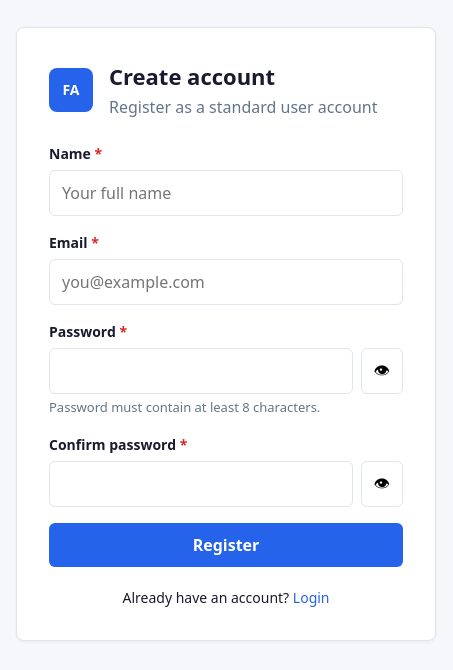
Registration › password confirmation validation
Type "Test User" into the field labelled "Name *" at (226, 193), box [49,170,403,216]
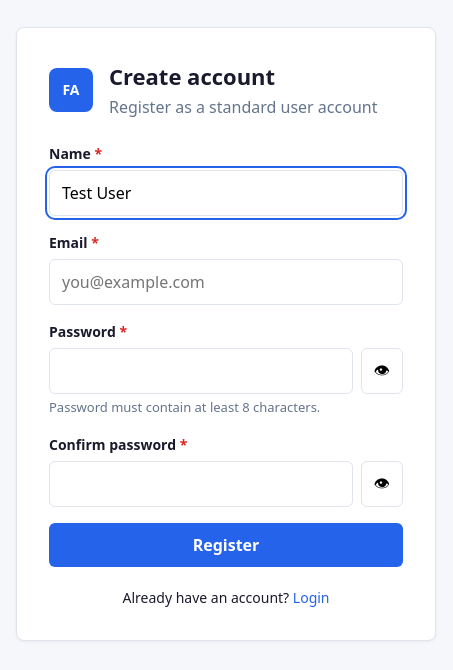
Type "user@example.com" into the field labelled "Email *" at (226, 282), box [49,259,403,305]
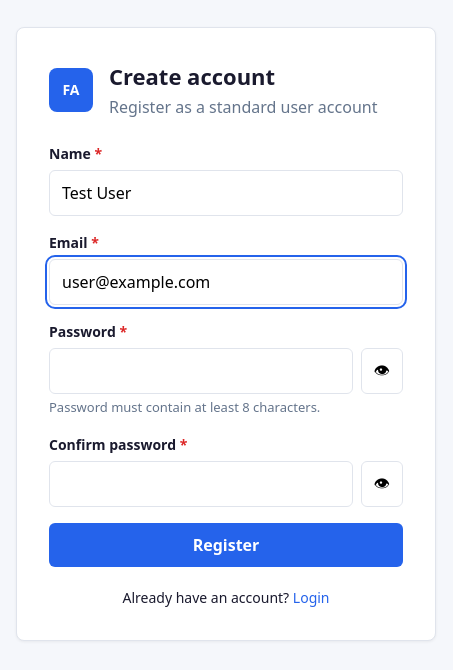
Type "password123" into the password field labelled "Password *" at (201, 371), box [49,348,353,394]
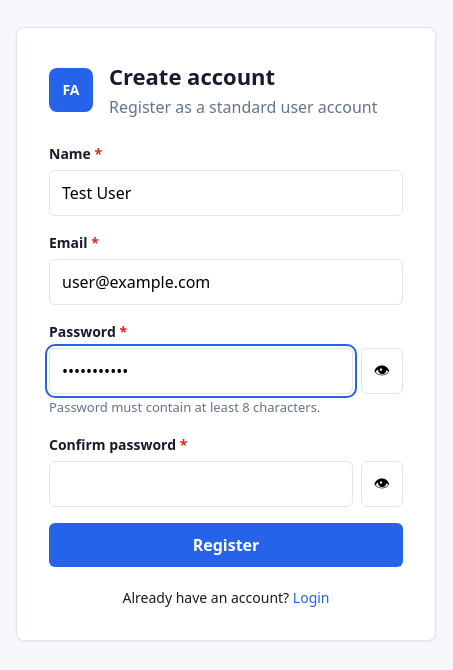
Type "different" into the password field labelled "Confirm password *" at (201, 484), box [49,461,353,507]
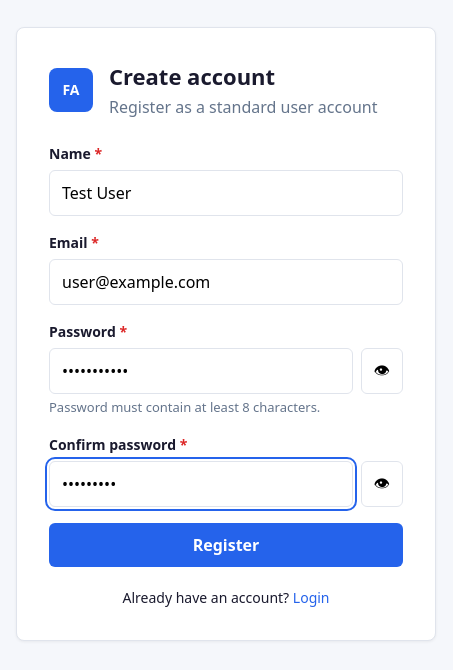
Click the button "Register" at (226, 545), box [49,523,403,567]
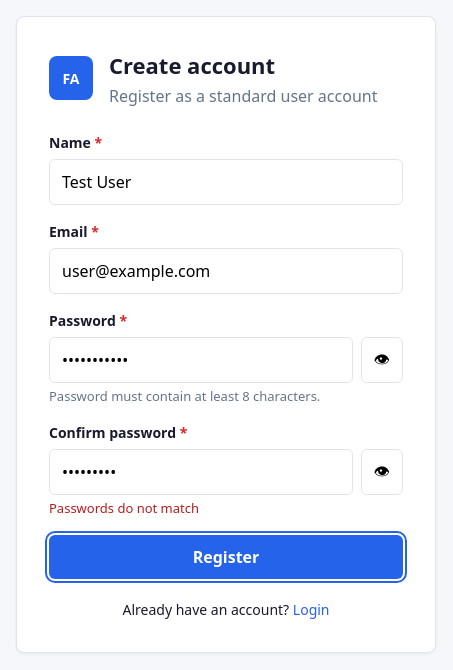
Expected: the text "Passwords do not match" is shown, [49,499,199,517]
